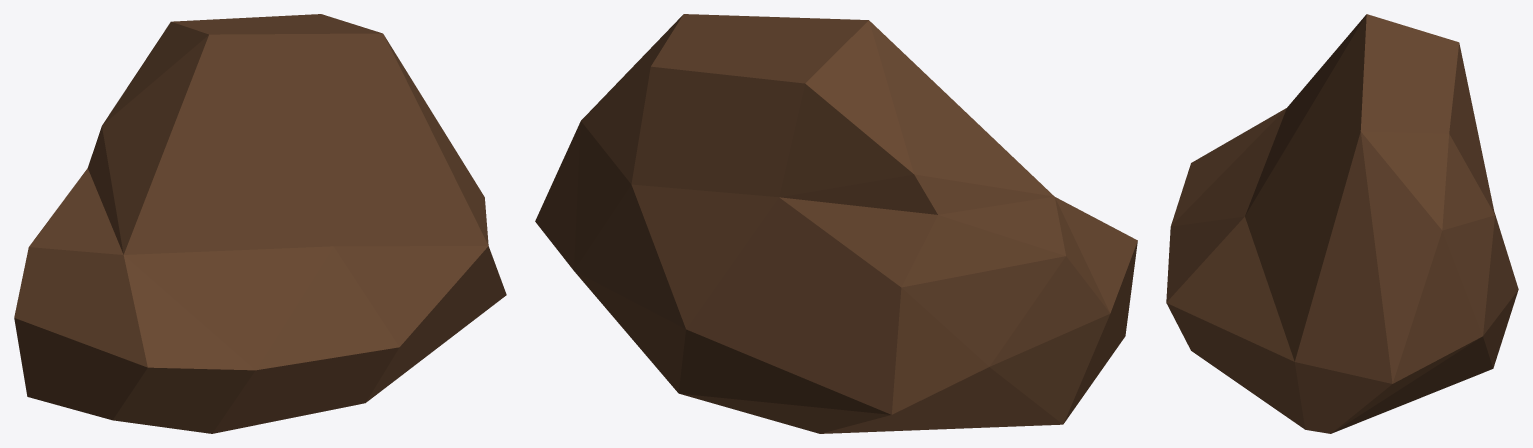
The picture shows the model from 3 angles, left to right: view 1: azimuth 30°, elevation 25°; view 2: azimuth 150°, elevation 25°; view 3: azimuth 270°, elevation 25°; orthographic projection. The views are drawn at different scales.
Visible parts, largest first — view 1: Cube; view 2: Cube; view 3: Cube.
Part boxes in pixels (left/top/right/bottom): Cube: left=14, top=14, right=506, bottom=433; Cube: left=535, top=14, right=1137, bottom=433; Cube: left=1166, top=14, right=1518, bottom=433.
Size of the model in its own units: 237 by 160 by 151.
